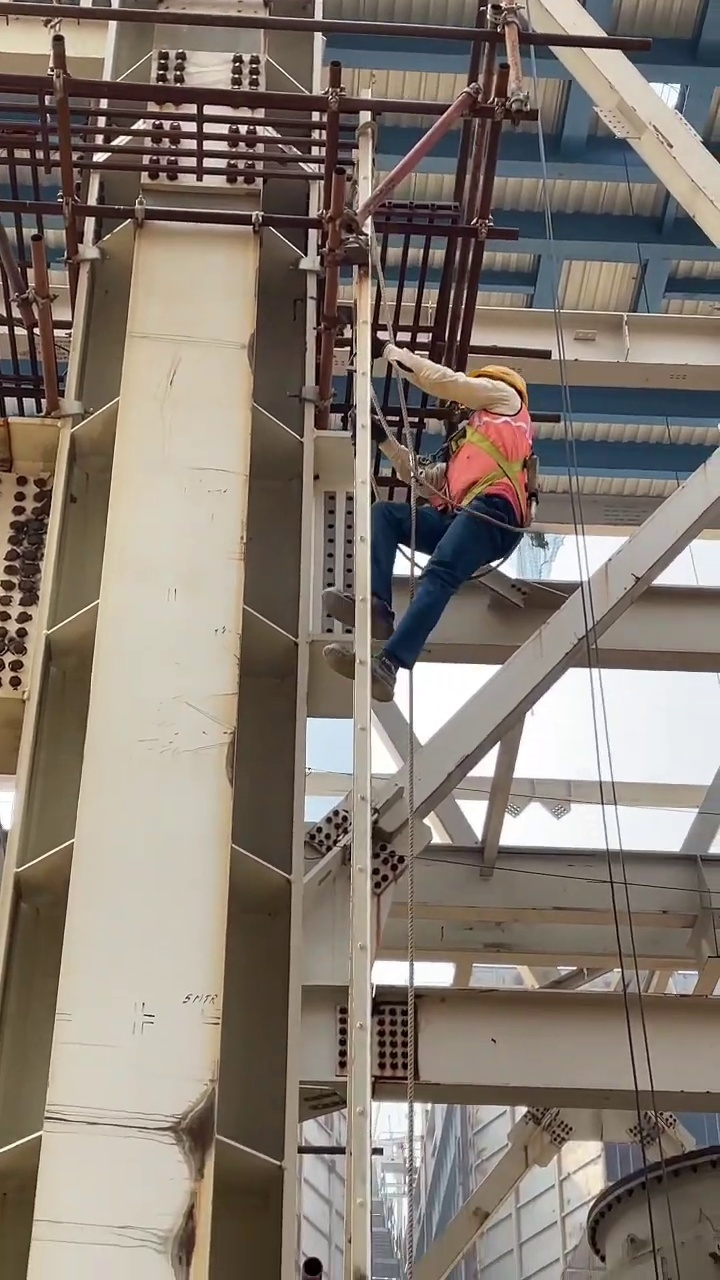Helmet: (475, 362, 527, 392)
Person: (320, 364, 540, 707)
Safety_Harness: (436, 401, 541, 534)
Safety_shoes: (321, 637, 399, 705), (322, 586, 399, 637)
